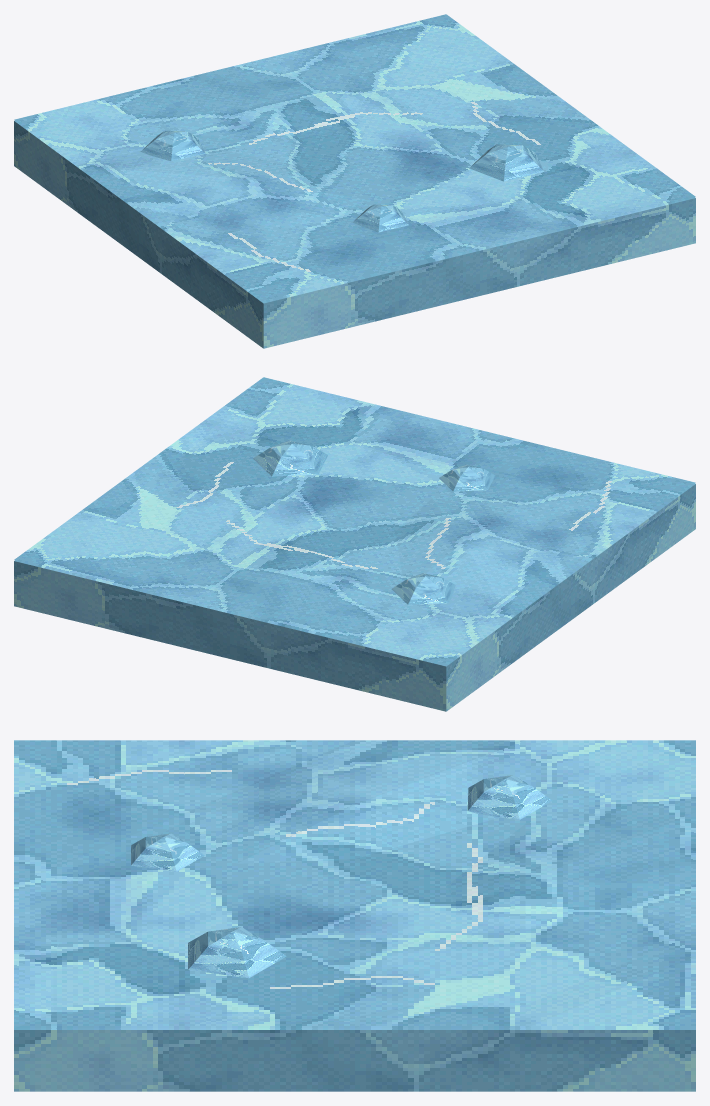
File: terreno_caverna_de_gelo.glb
The picture shows the model from 3 angles, top to bottom: view 1: azimuth 30°, elevation 25°; view 2: azimuth 150°, elevation 25°; view 3: azimuth 270°, elevation 25°; orthographic projection. The views are drawn at different scales.
Visible parts, largest first — view 1: terreno_caverna_de_gelo; view 2: terreno_caverna_de_gelo; view 3: terreno_caverna_de_gelo.
Boxes of the visible parts, x1=… form: terreno_caverna_de_gelo: x1=14, y1=14, x2=695, y2=348; terreno_caverna_de_gelo: x1=14, y1=377, x2=695, y2=711; terreno_caverna_de_gelo: x1=14, y1=740, x2=695, y2=1091.
Size of the model in its own units: 2 by 0.285 by 2.
Materials: 1 (1 with a texture image).
